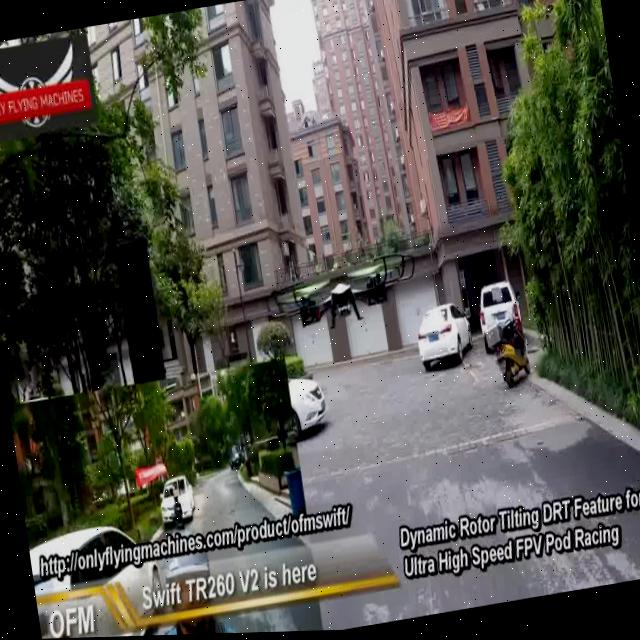drone: (262, 241, 423, 348)
